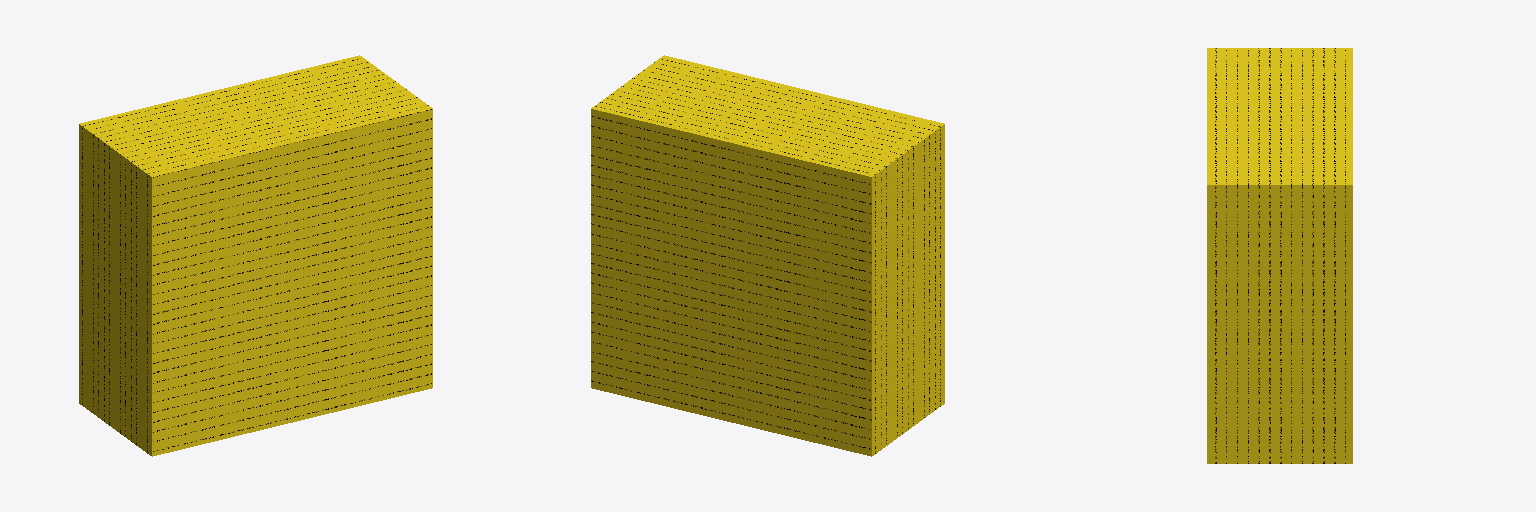
3 renders of one model, left to right at view 1: azimuth 30°, elevation 25°; view 2: azimuth 150°, elevation 25°; view 3: azimuth 270°, elevation 25°, orthographic.
Parts seen in each view (by area): view 1: 9, 5, 8, 4; view 2: 4, 5, 8, 9; view 3: 6, 5, 9, 4, 7.
Boxes of the visible parts, <box> form: 9: <box>150,107,432,456</box>; 5: <box>80,56,430,179</box>; 8: <box>80,130,149,449</box>; 4: <box>79,55,359,403</box>; 4: <box>591,108,872,456</box>; 5: <box>592,56,942,180</box>; 8: <box>873,131,942,450</box>; 9: <box>663,55,944,404</box>; 6: <box>1210,190,1350,458</box>; 5: <box>1210,48,1350,189</box>; 9: <box>1207,48,1209,463</box>; 4: <box>1351,48,1352,463</box>; 7: <box>1210,459,1350,463</box>.
Size of the model in its own units: 480 by 456 by 216.
3 materials, 3 textured.